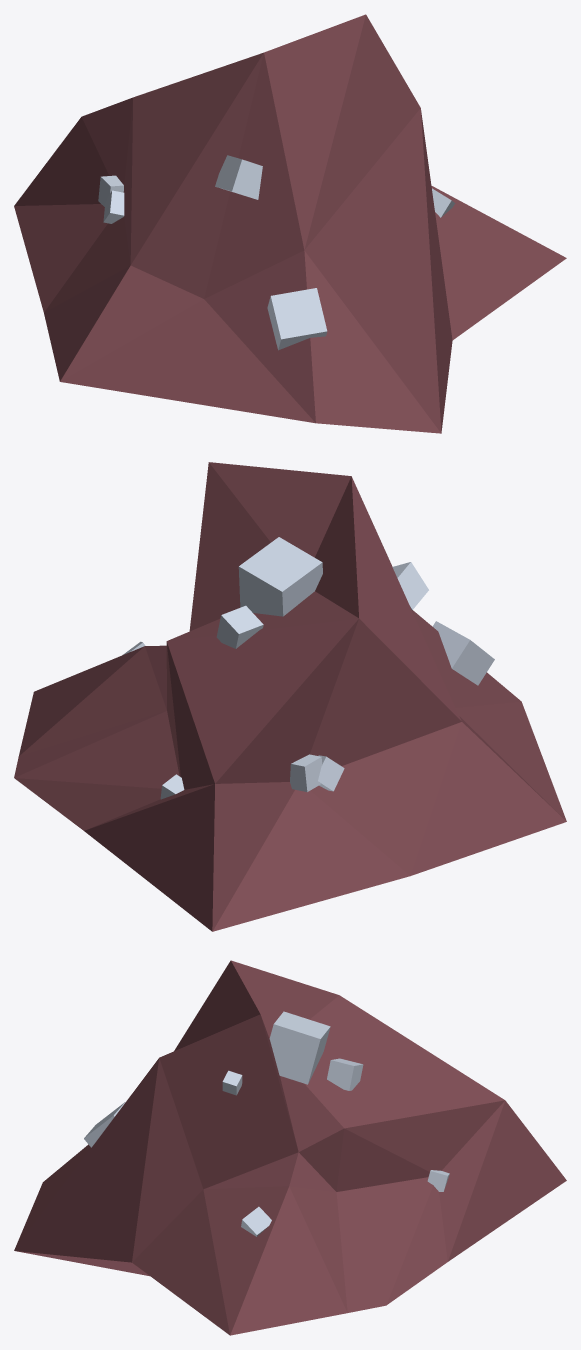
The model's file is cubeore_2.fbx.
3 renders of one model, top to bottom at view 1: azimuth 30°, elevation 25°; view 2: azimuth 150°, elevation 25°; view 3: azimuth 270°, elevation 25°, orthographic. The views are drawn at different scales.
Visible parts, largest first — view 1: Cube.001; view 2: Cube.001; view 3: Cube.001.
Boxes of the visible parts, x1,y1,x2,y2 form: Cube.001: (14,14,566,433); Cube.001: (14,462,566,931); Cube.001: (14,960,566,1335).
Bounding box in the file's own units: 369 × 211 × 396.
